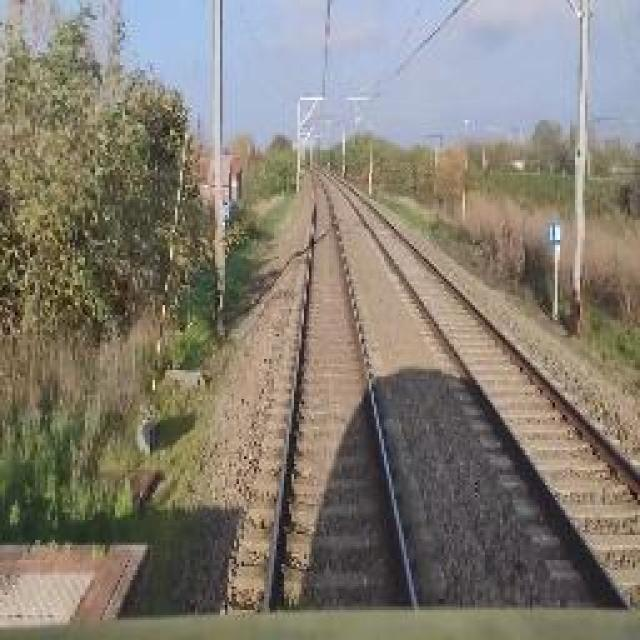rail: (231, 175, 457, 609)
